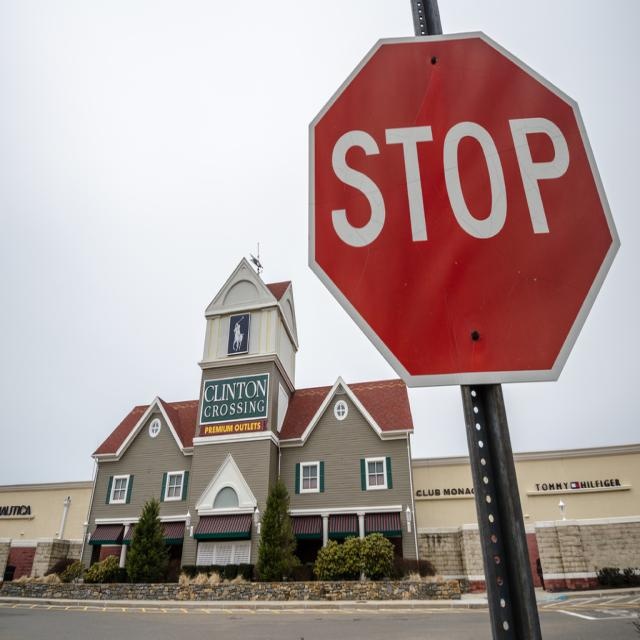Stop-sign: (306, 28, 621, 388)
